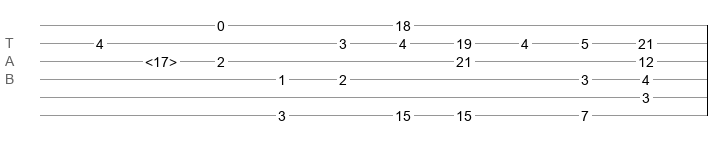0: (217, 18, 225, 28)
1: (278, 72, 286, 82)
12: (638, 54, 654, 64)
15: (395, 108, 411, 118), (456, 108, 472, 118)
18: (395, 18, 411, 28)
19: (456, 36, 472, 46)
2: (217, 54, 225, 64), (339, 72, 347, 82)
21: (456, 54, 472, 64), (638, 36, 654, 46)
3: (278, 108, 286, 118), (339, 36, 347, 46), (581, 72, 589, 82), (642, 90, 650, 100)
4: (96, 36, 104, 46), (399, 36, 407, 46), (521, 36, 529, 46), (642, 72, 650, 82)
5: (581, 36, 589, 46)
7: (581, 108, 589, 118)
harmonic: (145, 54, 177, 64)
